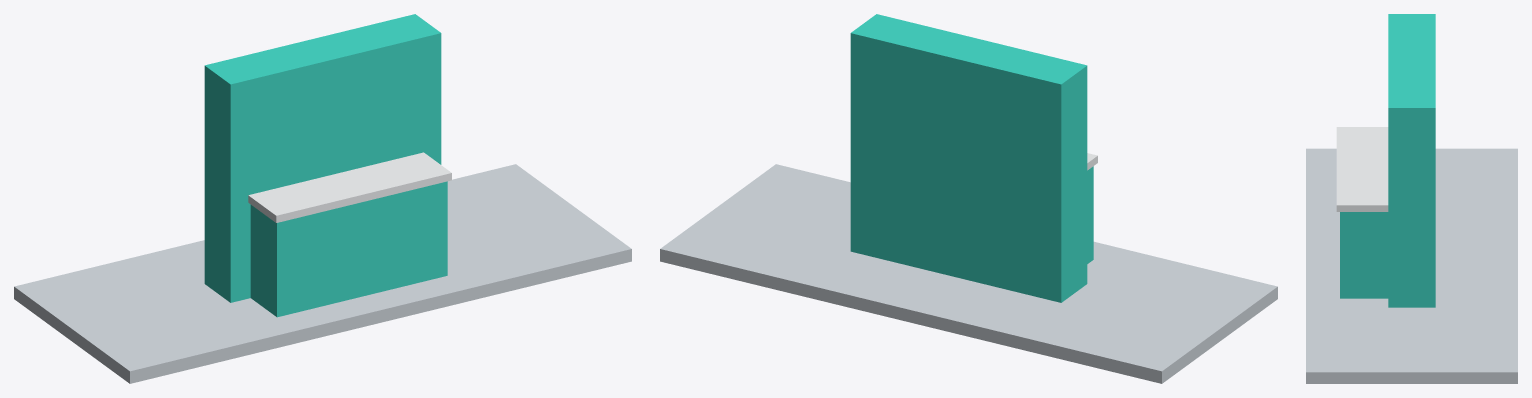
3 views of the same model, side by side, from view 1: azimuth 30°, elevation 25°; view 2: azimuth 150°, elevation 25°; view 3: azimuth 270°, elevation 25° (orthographic). The views are drawn at different scales.
Parts seen in each view (by area): view 1: Exhibition Booth Concept; view 2: Exhibition Booth Concept; view 3: Exhibition Booth Concept.
Part boxes in pixels (left/top/right/bottom): Exhibition Booth Concept: left=14, top=14, right=631, bottom=383; Exhibition Booth Concept: left=660, top=14, right=1277, bottom=383; Exhibition Booth Concept: left=1306, top=14, right=1517, bottom=383.
Size of the model in its own units: 5 by 2.2 by 2.
